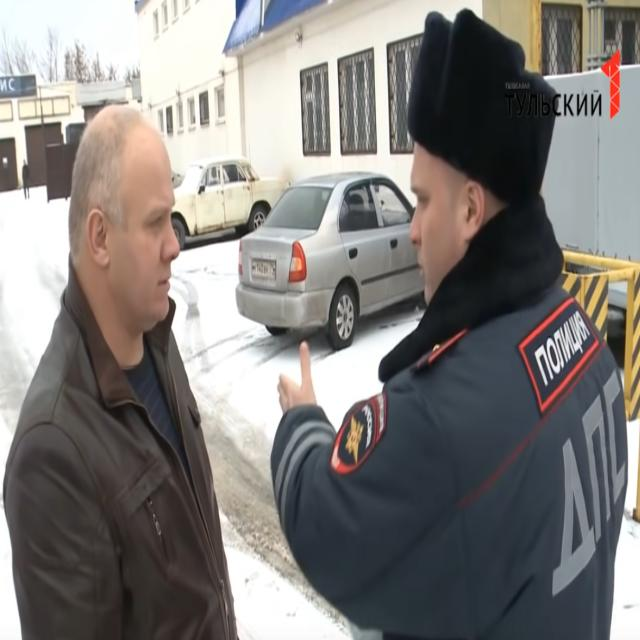non emergency car: (234, 154, 435, 358), (165, 137, 288, 254)
